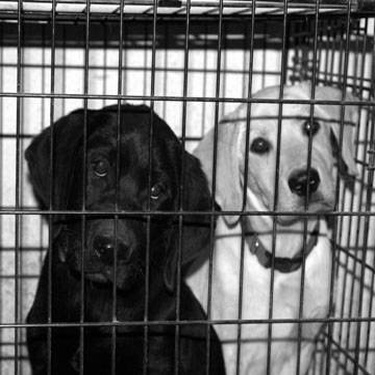dog: (1, 92, 244, 369), (153, 63, 365, 372)
